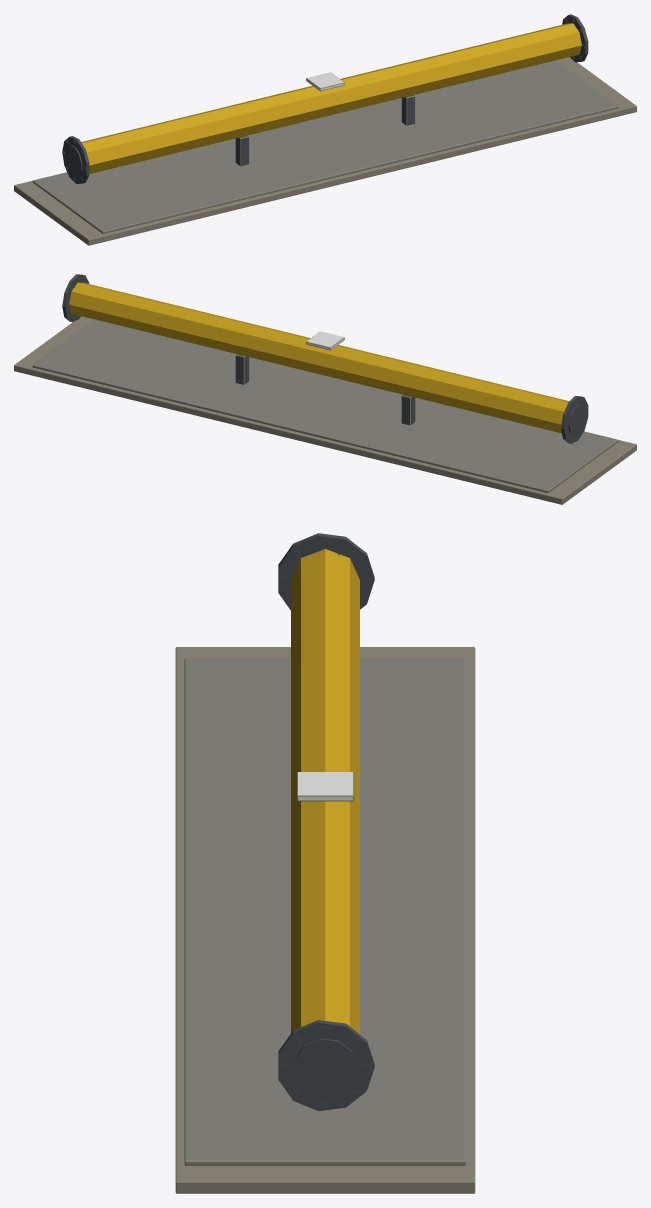
File: on_pipeline_segment.glb
The picture shows the model from 3 angles, top to bottom: view 1: azimuth 30°, elevation 25°; view 2: azimuth 150°, elevation 25°; view 3: azimuth 270°, elevation 25°; orthographic projection. The views are drawn at different scales.
Visible parts, largest first — view 1: on_pipeline_segment; view 2: on_pipeline_segment; view 3: on_pipeline_segment.
Boxes of the visible parts, left/top/right/bottom form: on_pipeline_segment: left=14, top=14, right=636, bottom=245; on_pipeline_segment: left=14, top=274, right=636, bottom=504; on_pipeline_segment: left=175, top=533, right=475, bottom=1193.
Size of the model in its own units: 11 by 1.42 by 2.6.
